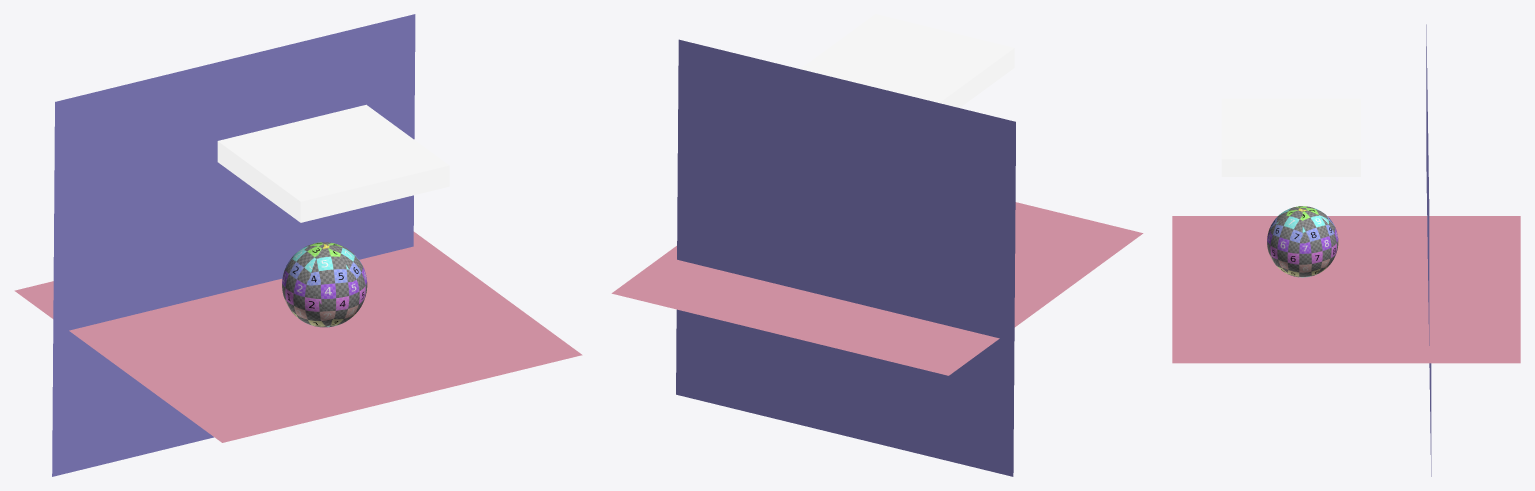
The model's file is pathtracer_test_microfacet.glb.
3 views of the same model, side by side, from view 1: azimuth 30°, elevation 25°; view 2: azimuth 150°, elevation 25°; view 3: azimuth 270°, elevation 25° (orthographic). The views are drawn at different scales.
Visible parts, largest first — view 1: Plane.002, Plane.001, Cube.002, Icosphere.001; view 2: Plane.002, Plane.001, Cube.002; view 3: Plane.001, Cube.002, Icosphere.001, Plane.002.
Boxes of the visible parts, <box> form: Plane.002: <box>52,14,415,476</box>; Plane.001: <box>14,231,582,442</box>; Cube.002: <box>217,104,449,222</box>; Icosphere.001: <box>282,242,367,327</box>; Plane.002: <box>676,39,1015,476</box>; Plane.001: <box>611,202,1143,375</box>; Cube.002: <box>800,14,1014,107</box>; Plane.001: <box>1172,216,1520,363</box>; Cube.002: <box>1221,98,1360,176</box>; Icosphere.001: <box>1267,206,1338,277</box>; Plane.002: <box>1426,24,1431,476</box>.
Bounding box in the file's own units: 25.67 × 24.6 × 24.61.
4 materials, 1 textured.
